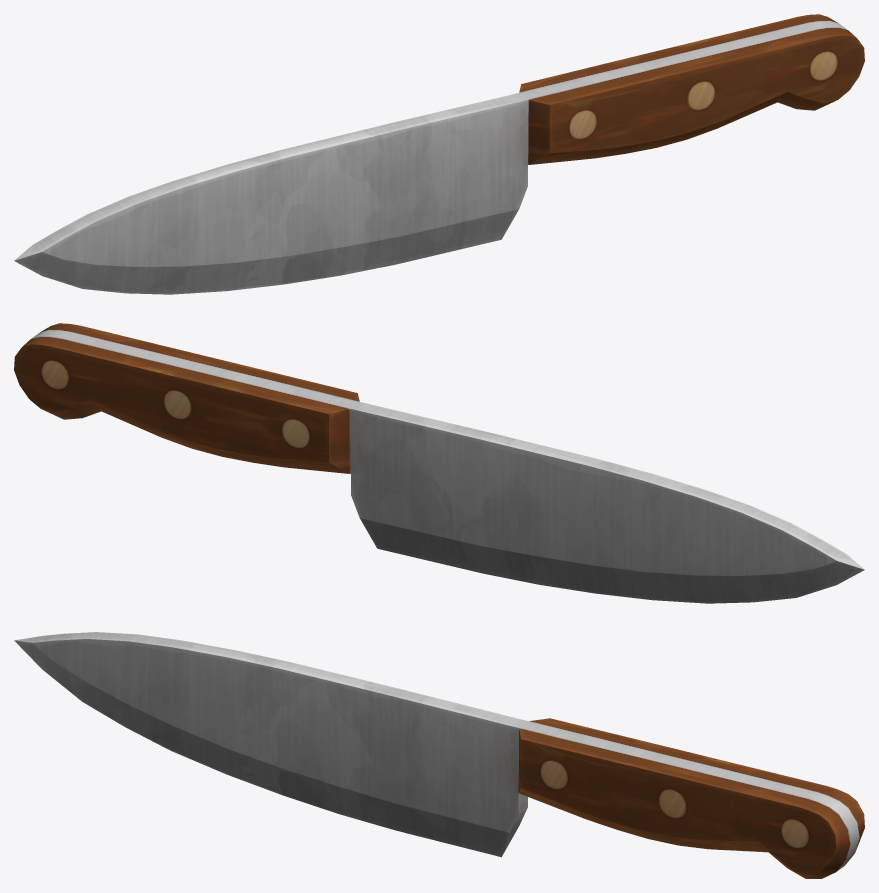
Rendered from SM_ChefsKnife.glb.
3 renders of one model, top to bottom at view 1: azimuth 30°, elevation 25°; view 2: azimuth 150°, elevation 25°; view 3: azimuth 330°, elevation 25°, orthographic.
Parts seen in each view (by area): view 1: SM_ChefsKnife; view 2: SM_ChefsKnife; view 3: SM_ChefsKnife.
Boxes of the visible parts, box(x1,y1,x2,y2) form: SM_ChefsKnife: box(14, 14, 864, 294); SM_ChefsKnife: box(14, 323, 864, 603); SM_ChefsKnife: box(14, 632, 864, 878).
Bounding box in the file's own units: 0.404 × 0.0646 × 0.024.
Materials: 1 (1 with a texture image).
